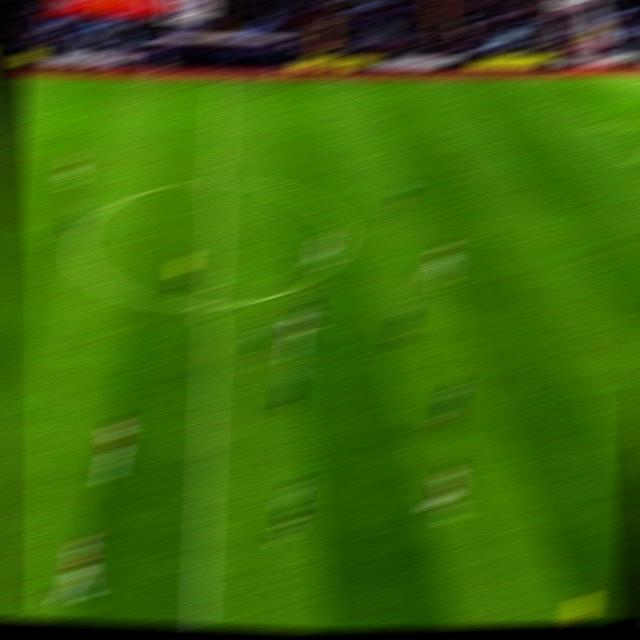bigarea_top_inner: (587, 114, 615, 134)
halfcircle_bottom: (192, 288, 228, 320)
halfcircle_top: (197, 167, 234, 196)
midline_top_intersection: (205, 69, 235, 89)
